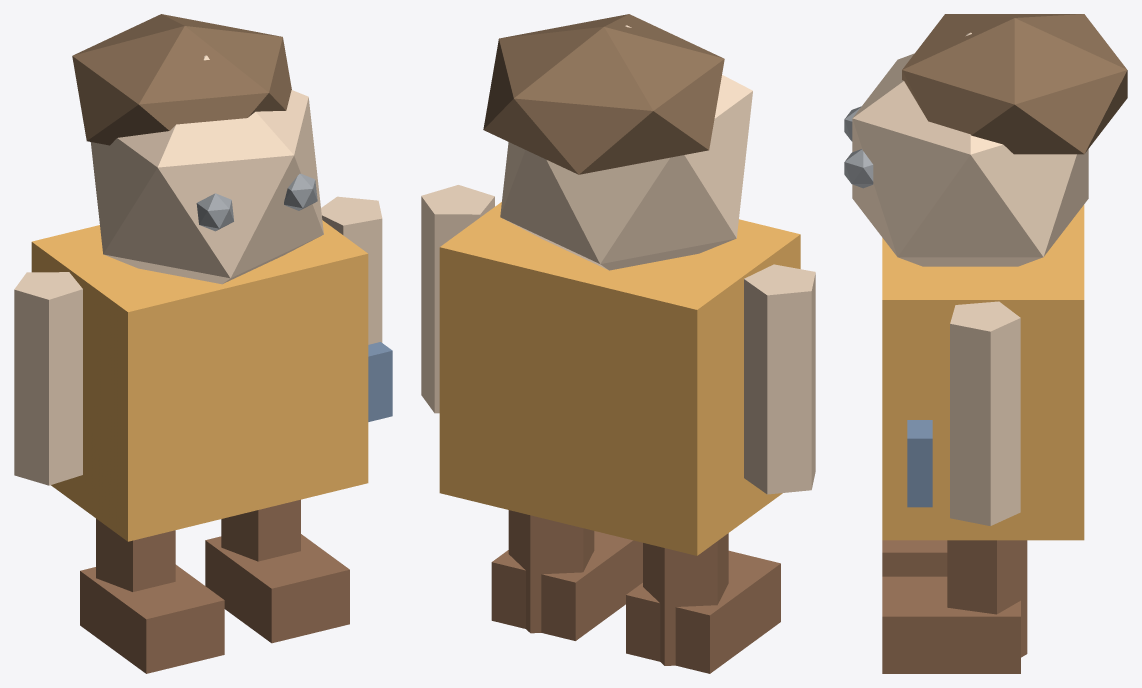
Rendered from npc_villager_child.glb.
3 renders of one model, left to right at view 1: azimuth 30°, elevation 25°; view 2: azimuth 150°, elevation 25°; view 3: azimuth 270°, elevation 25°, orthographic. The views are drawn at different scales.
Parts seen in each view (by area): view 1: smock, head.002, hair, arm_0.002, shoe_0, shoe_1, leg_0.001, arm_1.002, leg_1.001, patch, eye_l, eye_r; view 2: smock, hair, head.002, arm_0.002, shoe_0, shoe_1, arm_1.002, leg_0.001, leg_1.001; view 3: smock, head.002, hair, arm_1.002, shoe_1, leg_1.001, shoe_0, patch, eye_r.
Boxes of the visible parts, bbox=[...] form: smock: bbox=[31, 220, 368, 541]; head.002: bbox=[90, 55, 323, 284]; hair: bbox=[72, 14, 291, 145]; arm_0.002: bbox=[14, 272, 82, 485]; shoe_0: bbox=[80, 564, 224, 673]; shoe_1: bbox=[205, 534, 349, 643]; leg_0.001: bbox=[96, 518, 175, 591]; arm_1.002: bbox=[321, 196, 382, 344]; leg_1.001: bbox=[221, 499, 300, 561]; patch: bbox=[368, 342, 392, 421]; eye_l: bbox=[196, 193, 233, 231]; eye_r: bbox=[284, 173, 317, 210]; smock: bbox=[439, 202, 800, 555]; hair: bbox=[483, 14, 724, 174]; head.002: bbox=[500, 25, 752, 270]; arm_0.002: bbox=[744, 264, 815, 494]; shoe_0: bbox=[626, 550, 780, 673]; shoe_1: bbox=[491, 531, 642, 640]; arm_1.002: bbox=[421, 185, 494, 413]; leg_0.001: bbox=[643, 533, 728, 665]; leg_1.001: bbox=[508, 510, 594, 633]; smock: bbox=[882, 204, 1084, 540]; head.002: bbox=[852, 32, 1088, 266]; hair: bbox=[902, 14, 1127, 154]; arm_1.002: bbox=[950, 301, 1020, 525]; shoe_1: bbox=[882, 576, 1020, 673]; leg_1.001: bbox=[947, 540, 1027, 657]; shoe_0: bbox=[882, 540, 947, 576]; patch: bbox=[907, 420, 932, 507]; eye_r: bbox=[844, 149, 873, 188].
Bounding box in the file's own units: 0.6977 × 1.06 × 0.4484.
